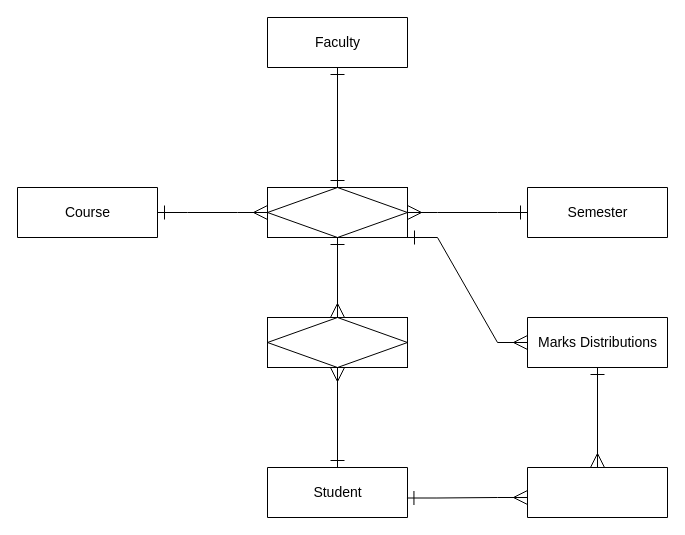
Some shapes in this 685 by 535 pixel diagram are drawn without their labels. Each missing label, with the centre of its shape:
"Course Offered" goes at point 337,212.
"Register" goes at point 337,342.
"Result" goes at point 597,492.
